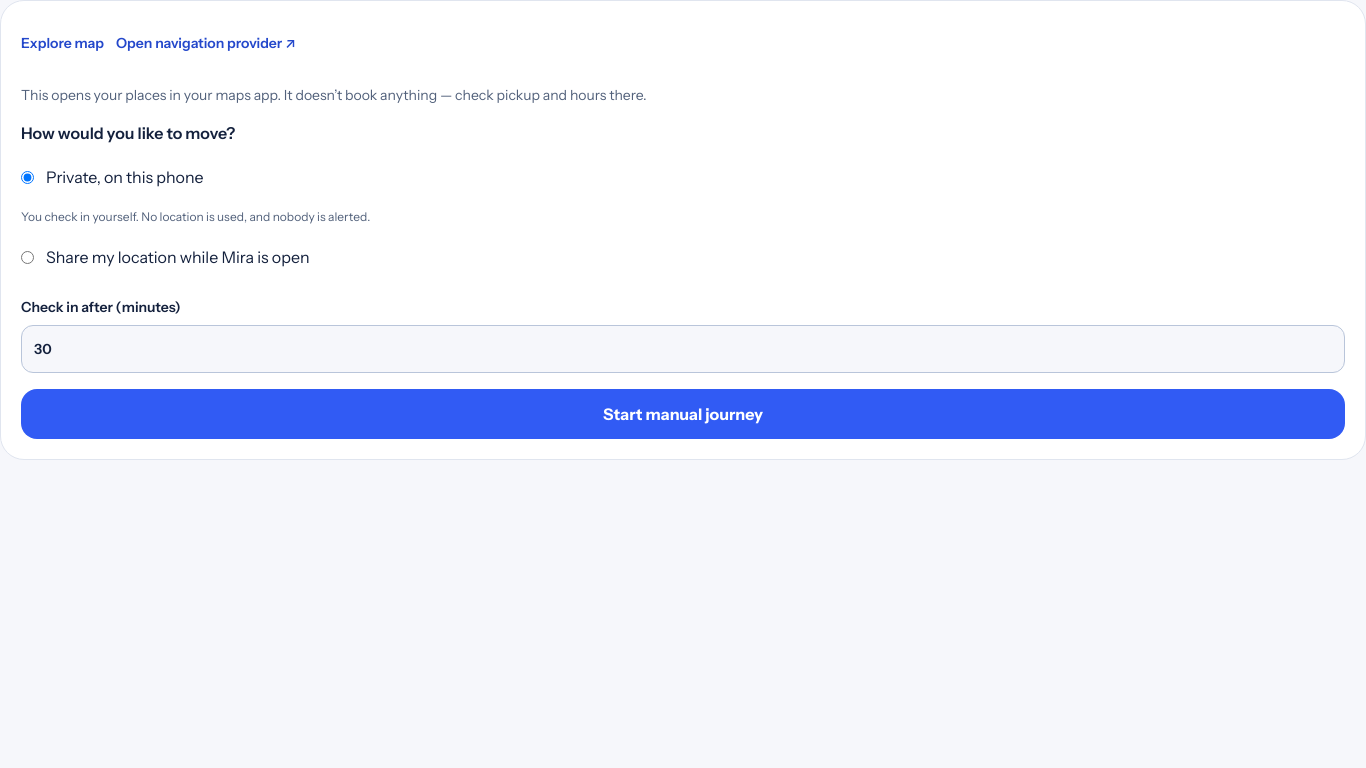
chosen journey explicit consent and stable retry › a journey already running is said plainly and never swapped in for this one (audit P0-3)
What coordinates should you click on to do the following:
click the radio button labelled "Share my location while Mira is open"
I would click on:
 (28, 257)
Its box is top-left (21, 250), bottom-right (34, 264).
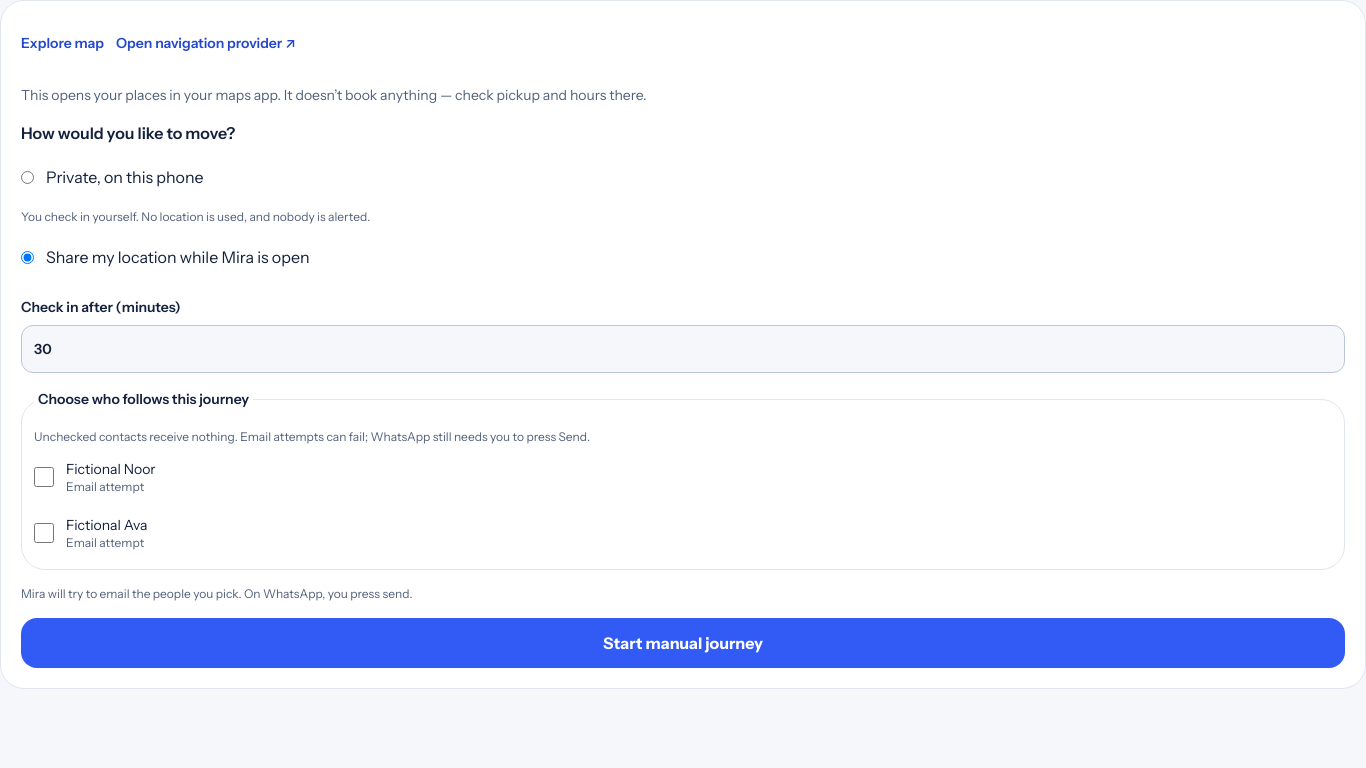
What coordinates should you click on to do the following:
click the checkbox labelled "Fictional Noor Email attempt"
I would click on:
 (44, 477)
Its box is top-left (34, 467), bottom-right (54, 487).
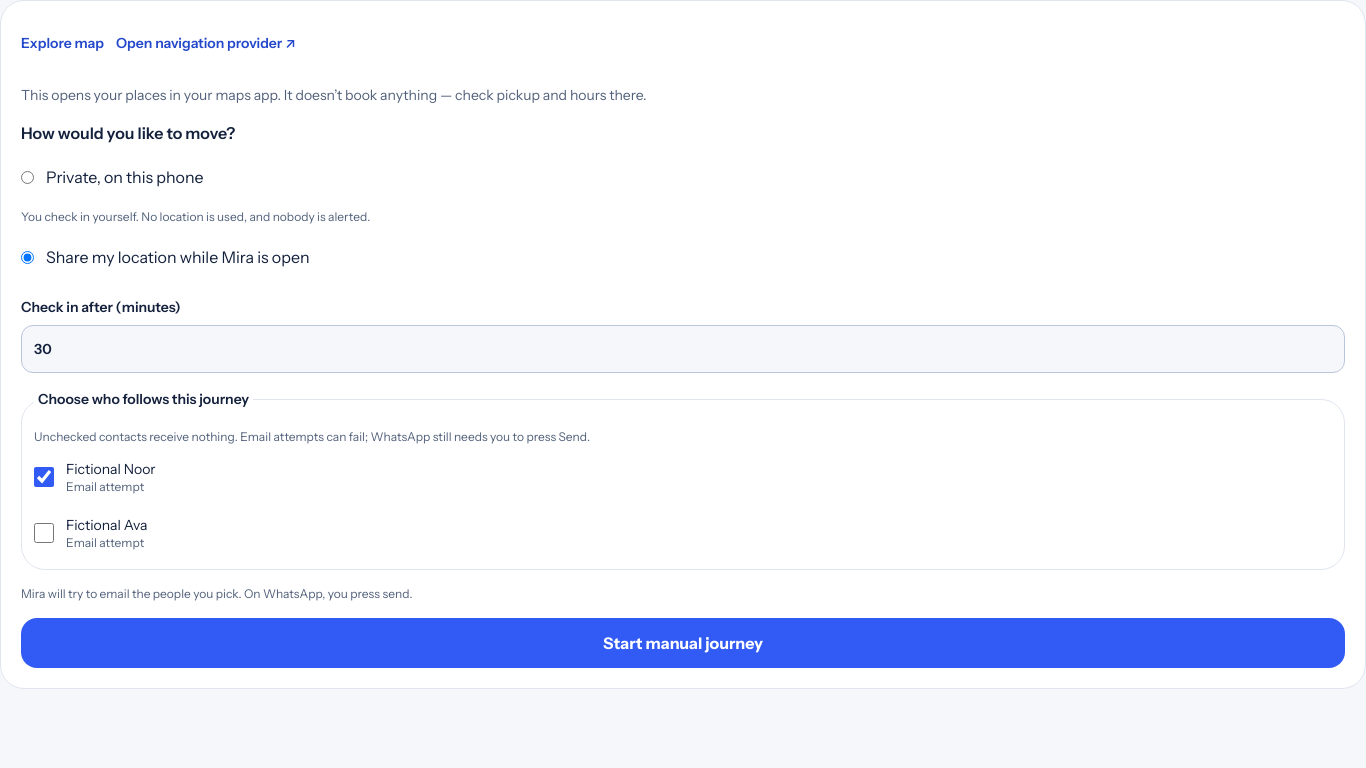
What coordinates should you click on to do the following:
click the button "Start manual journey"
I would click on:
 (683, 643)
Its box is top-left (21, 618), bottom-right (1345, 668).
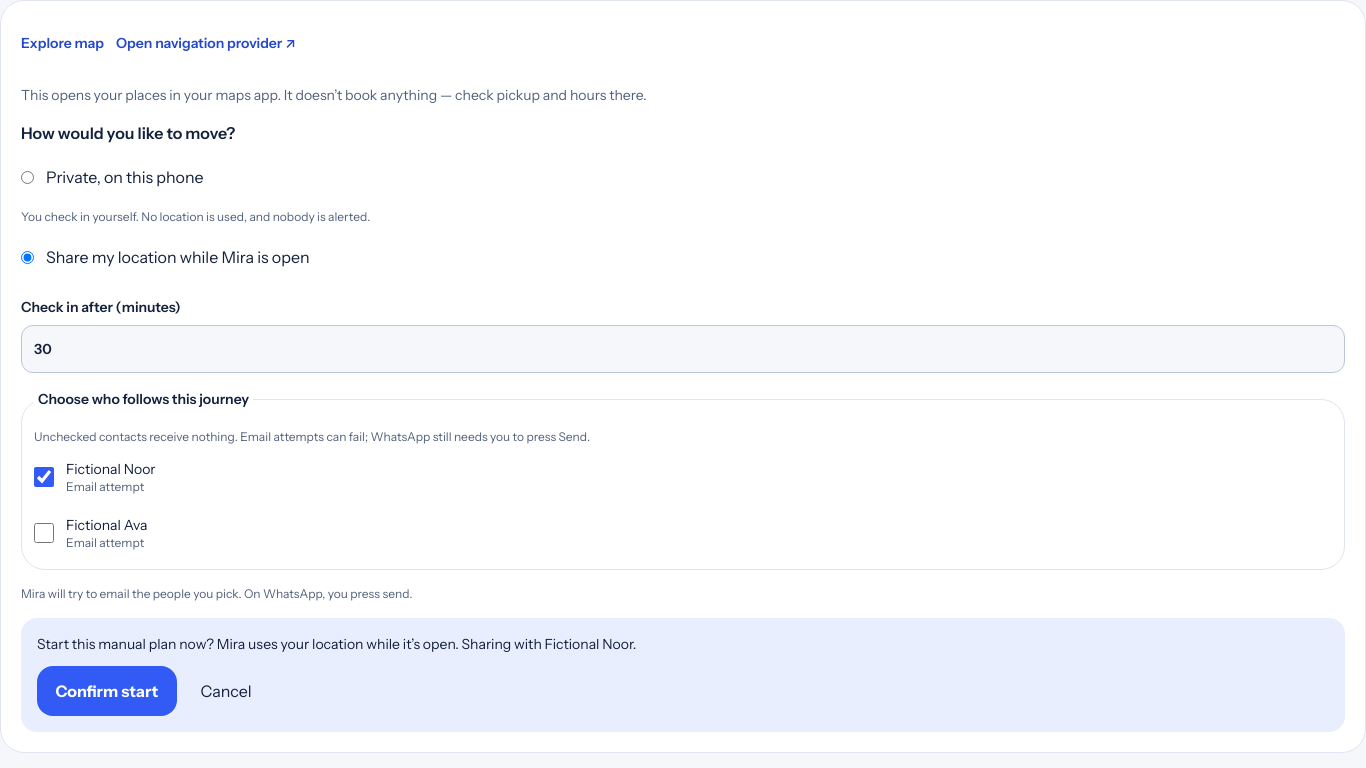
What coordinates should you click on to do the following:
click the button "Confirm start"
I would click on:
 (107, 691)
Its box is top-left (37, 666), bottom-right (177, 716).
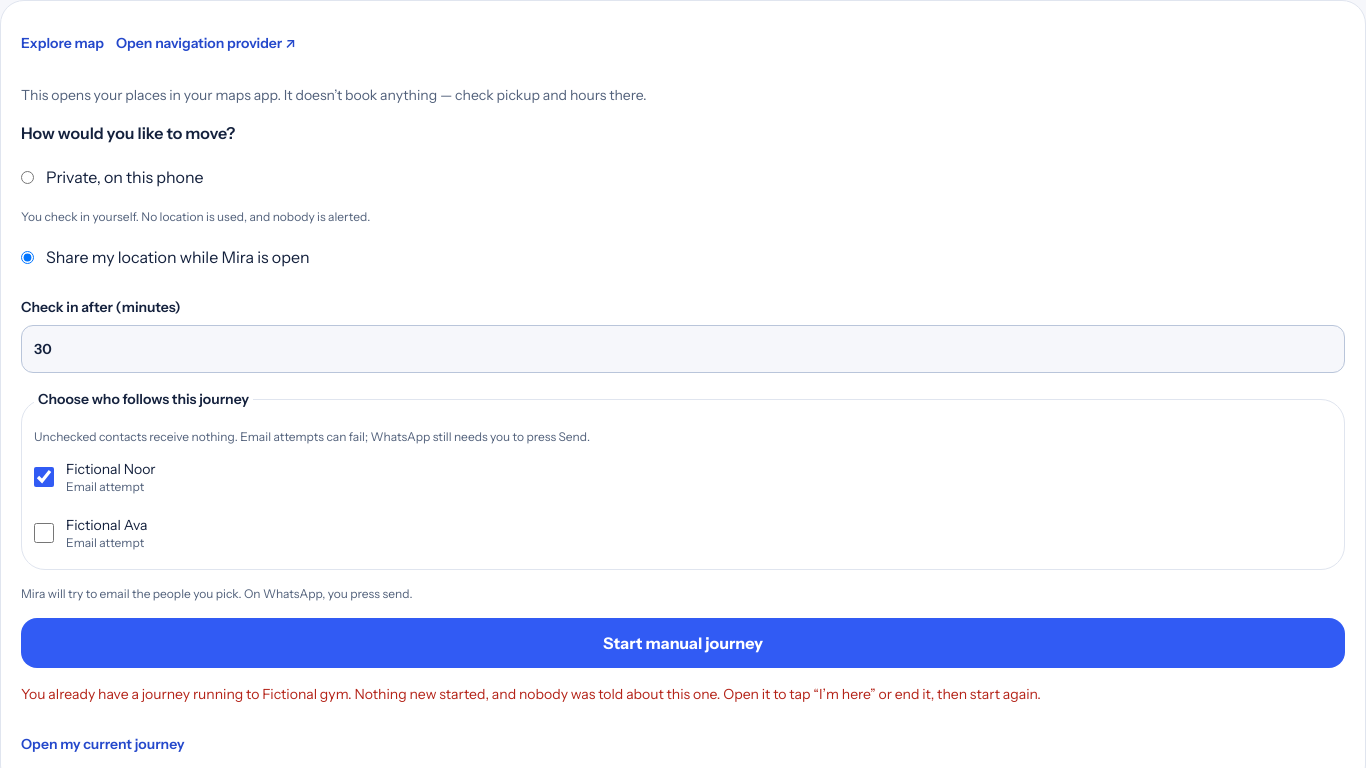
Check: the text "You already have a journey running to Fictional gym. Nothing new started, and nobody was told about this one" is shown, box top-left (21, 685), bottom-right (1041, 703)
